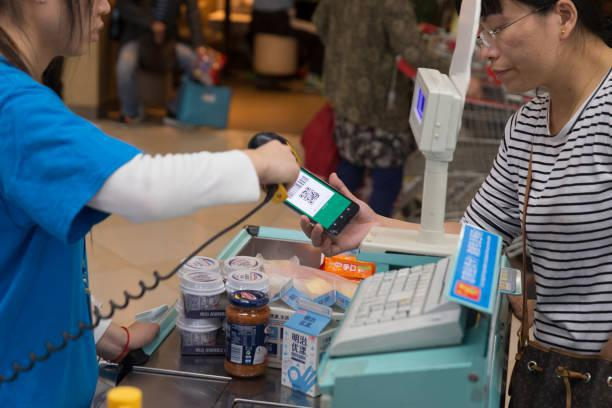Finder pattern: (308, 199, 315, 205), (305, 185, 311, 191)
